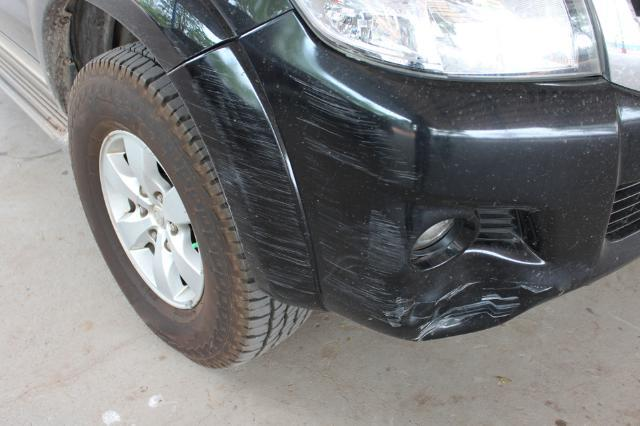Bumper: (170, 11, 608, 349)
